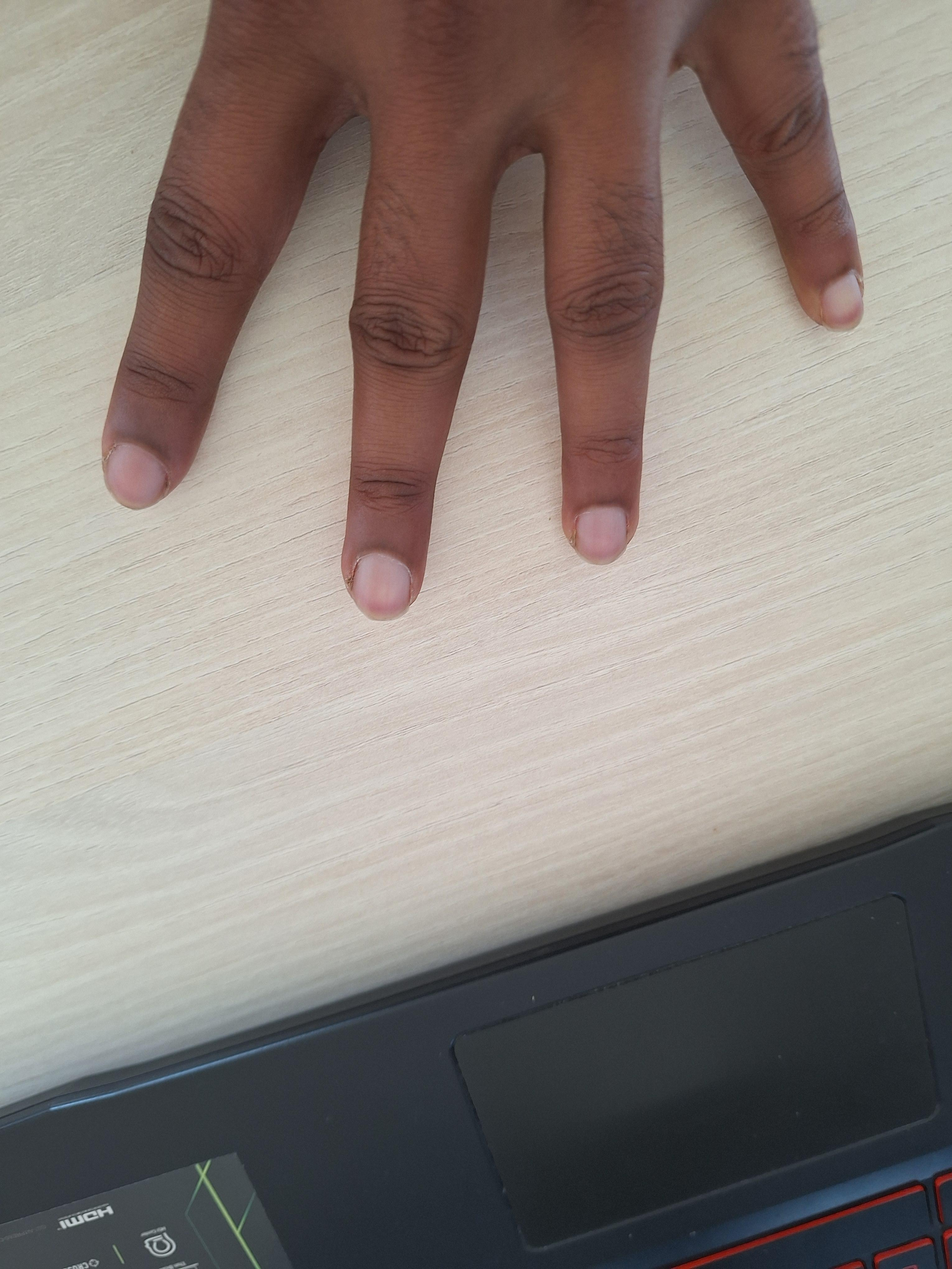Fingernail: (104, 444, 166, 510), (352, 556, 411, 621), (575, 508, 628, 565), (821, 274, 863, 334)
